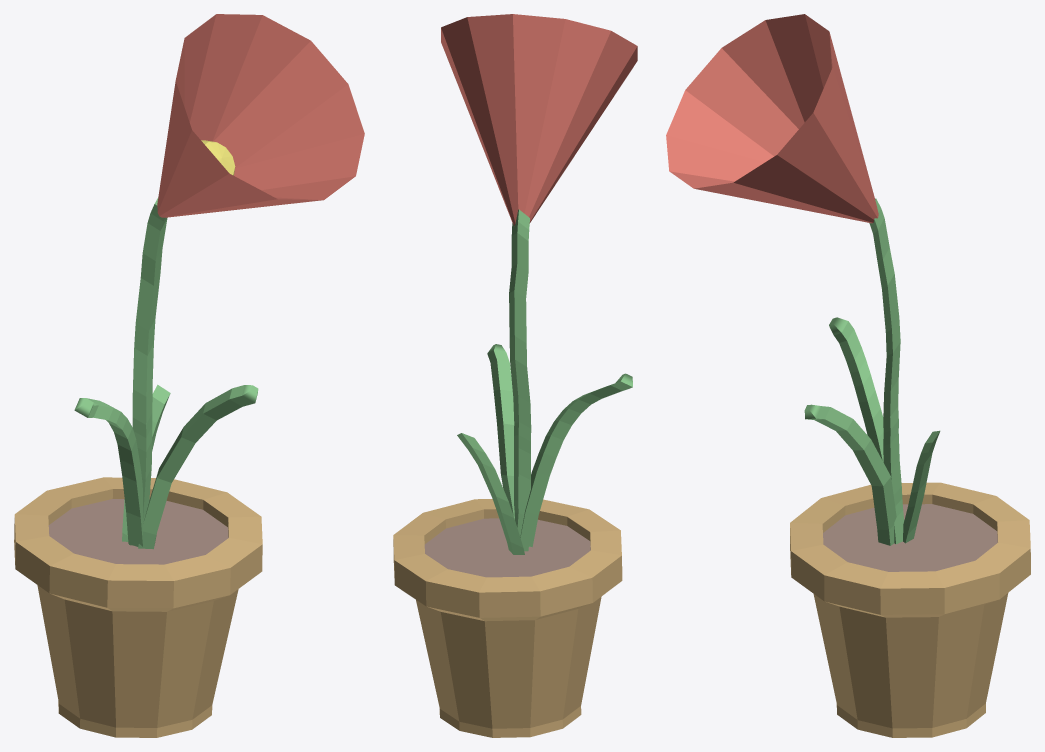
Rendered from RedFlowerPotplant.fbx.
The picture shows the model from 3 angles, left to right: view 1: azimuth 30°, elevation 25°; view 2: azimuth 150°, elevation 25°; view 3: azimuth 270°, elevation 25°; orthographic projection. The views are drawn at different scales.
Visible parts, largest first — view 1: polySurface878; view 2: polySurface878; view 3: polySurface878.
Boxes of the visible parts, left/top/right/bottom form: polySurface878: left=14, top=14, right=364, bottom=737; polySurface878: left=393, top=14, right=637, bottom=737; polySurface878: left=666, top=14, right=1030, bottom=737.
Bounding box in the file's own units: 0.1154 × 0.3166 × 0.1509.
